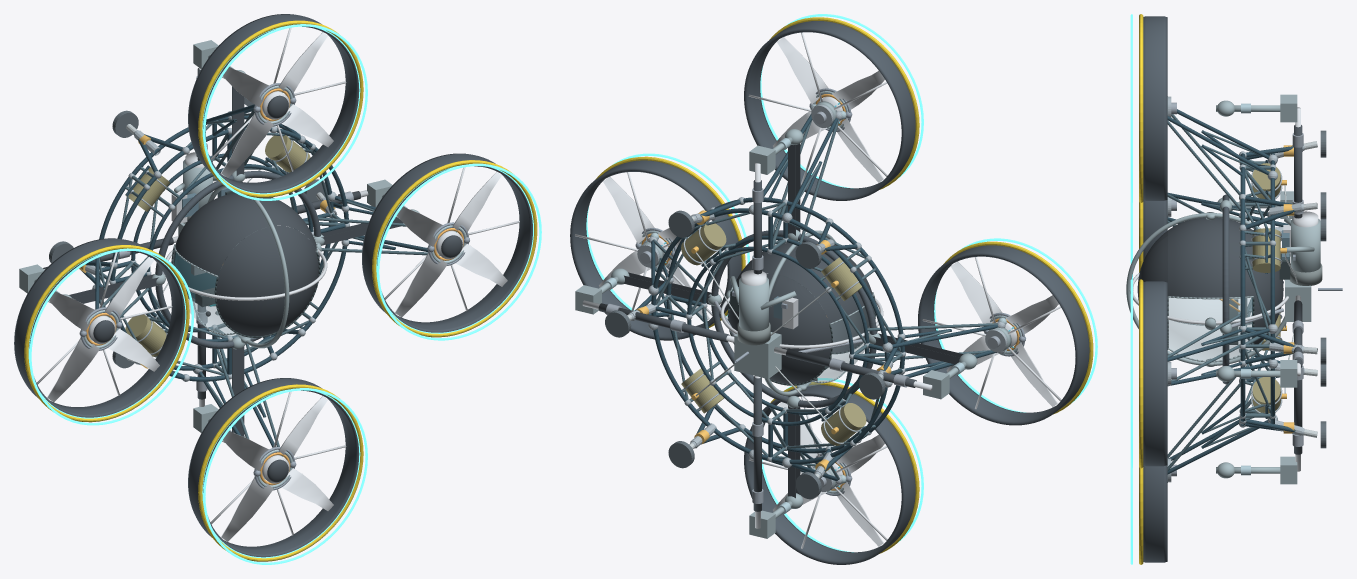
Rendered from airframe-r6-blendstra-rig.glb.
The picture shows the model from 3 angles, left to right: view 1: azimuth 30°, elevation 25°; view 2: azimuth 150°, elevation 25°; view 3: azimuth 270°, elevation 25°; orthographic projection.
Parts seen in each view (by area): view 1: P04 | CFRP upper spherical sandwich, P02 | F4 open annular duct, P02 | F3 open annular duct, P02 | F1 open annular duct, P02 | F2 open annular duct, P04 | Aft CFRP belt west, V4 P06 | UPPER outer compression ring, P06 | Carbon ring R=1.190m, Phase2_Duct_Livery_Band_F4, Phase2_Duct_Livery_Band_F2, Phase2_Duct_Livery_Band_F3, Phase2_Duct_Livery_Band_F1 (+31 smaller); view 2: P02 | F3 open annular duct, P02 | F2 open annular duct, P02 | F4 open annular duct, P02 | F1 open annular duct, P04 | CFRP lower spherical sandwich, V4 P06 | LOWER outer load ring, V4 P06 | UPPER outer compression ring, V4 P06 | LOWER inner pressure ring, P06 | Carbon ring R=1.190m, P04 | Aft CFRP belt west, P03 | Four way reduction gearbox, V4 P06 | UPPER inner load ring (+28 smaller); view 3: P04 | Aft CFRP belt east, P02 | F1 open annular duct, P02 | F2 open annular duct, P04 | Segmented laminated window 3, P02 | F4 open annular duct, P04 | Segmented laminated window 2, P05 | Outer pitch ring YZ, P01 | M250 C30P class turboshaft schematic, V4 P06 | UPPER outer compression ring, P06 | Carbon ring R=1.190m, P04 | Segmented laminated window 1, P04 | CFRP upper spherical sandwich (+34 smaller).
Boxes of the visible parts, box(x1,y1,x2,y2) form: P04 | CFRP upper spherical sandwich: box(216, 226, 318, 336); P02 | F4 open annular duct: box(188, 378, 359, 557); P02 | F3 open annular duct: box(14, 238, 185, 417); P02 | F1 open annular duct: box(362, 153, 532, 332); P02 | F2 open annular duct: box(188, 14, 359, 193); P04 | Aft CFRP belt west: box(175, 194, 266, 275); V4 P06 | UPPER outer compression ring: box(110, 128, 348, 381); P06 | Carbon ring R=1.190m: box(155, 171, 320, 348); Phase2_Duct_Livery_Band_F4: box(198, 384, 363, 561); Phase2_Duct_Livery_Band_F2: box(198, 20, 363, 197); Phase2_Duct_Livery_Band_F3: box(24, 245, 189, 422); Phase2_Duct_Livery_Band_F1: box(372, 160, 537, 337); P02 | F3 open annular duct: box(918, 245, 1089, 425); P02 | F2 open annular duct: box(744, 21, 915, 200); P02 | F4 open annular duct: box(744, 384, 915, 564); P02 | F1 open annular duct: box(570, 160, 741, 340); P04 | CFRP lower spherical sandwich: box(729, 273, 831, 384); V4 P06 | LOWER outer load ring: box(651, 208, 889, 464); V4 P06 | UPPER outer compression ring: box(666, 197, 904, 453); V4 P06 | LOWER inner pressure ring: box(687, 246, 853, 425); P06 | Carbon ring R=1.190m: box(711, 230, 876, 407); P04 | Aft CFRP belt west: box(781, 250, 872, 323); P03 | Four way reduction gearbox: box(734, 332, 781, 378); V4 P06 | UPPER inner load ring: box(702, 235, 869, 414); P04 | Aft CFRP belt east: box(1168, 223, 1253, 297); P02 | F1 open annular duct: box(1143, 281, 1167, 466); P02 | F2 open annular duct: box(1143, 16, 1167, 200); P04 | Segmented laminated window 3: box(1169, 298, 1252, 360); P02 | F4 open annular duct: box(1143, 465, 1167, 562); P04 | Segmented laminated window 2: box(1169, 320, 1251, 360); P05 | Outer pitch ring YZ: box(1126, 213, 1286, 365); P01 | M250 C30P class turboshaft schematic: box(1291, 219, 1320, 272); V4 P06 | UPPER outer compression ring: box(1240, 153, 1245, 425); P06 | Carbon ring R=1.190m: box(1222, 194, 1229, 384); P04 | Segmented laminated window 1: box(1169, 298, 1251, 320); P04 | CFRP upper spherical sandwich: box(1137, 230, 1167, 300).
Size of the model in its own units: 7.67 by 7.67 by 2.82.
